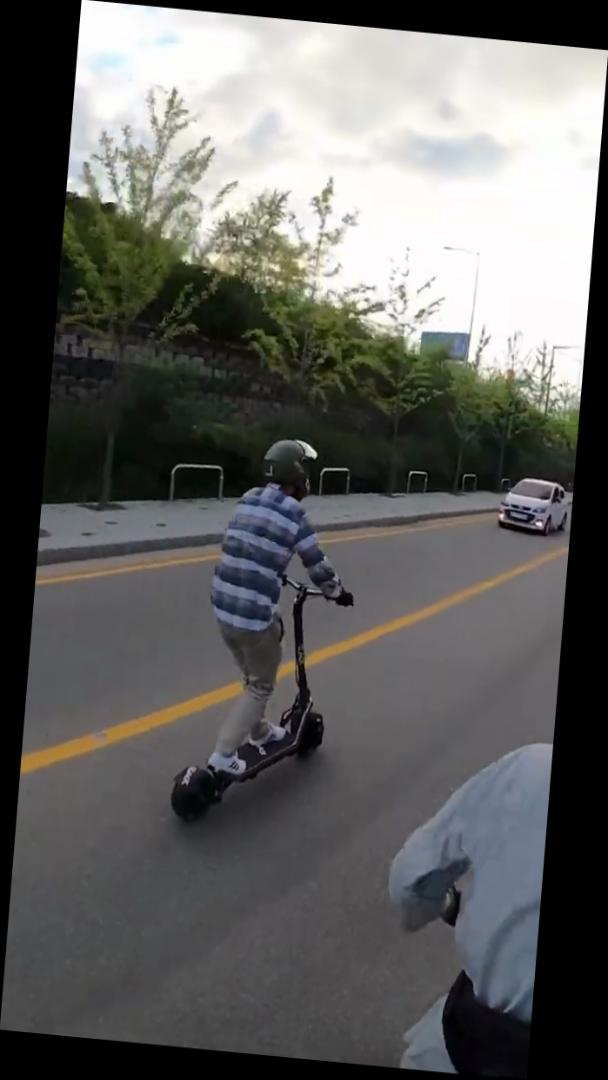helmet: (167, 422, 372, 841)
